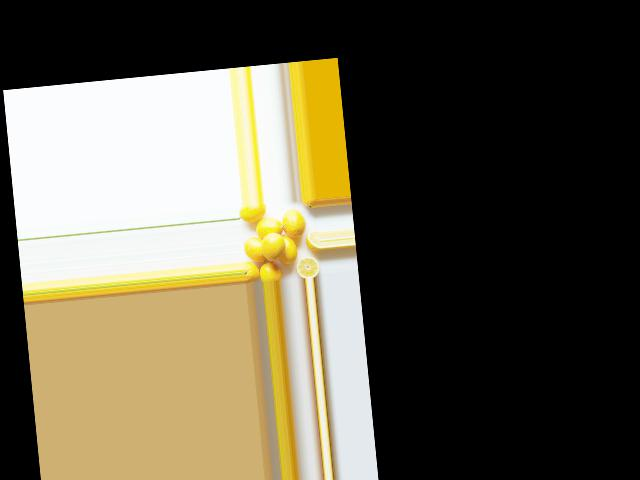lemon: (258, 260, 281, 282)
